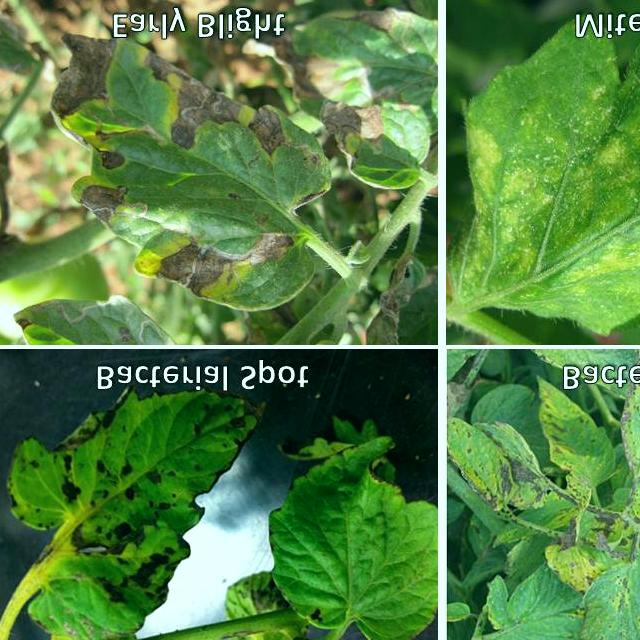Tomato Early blight leaf: (19, 39, 348, 317), (0, 368, 269, 640), (259, 394, 438, 640), (534, 358, 617, 525), (463, 562, 607, 640), (458, 400, 553, 513), (554, 536, 640, 640), (611, 352, 640, 533)
